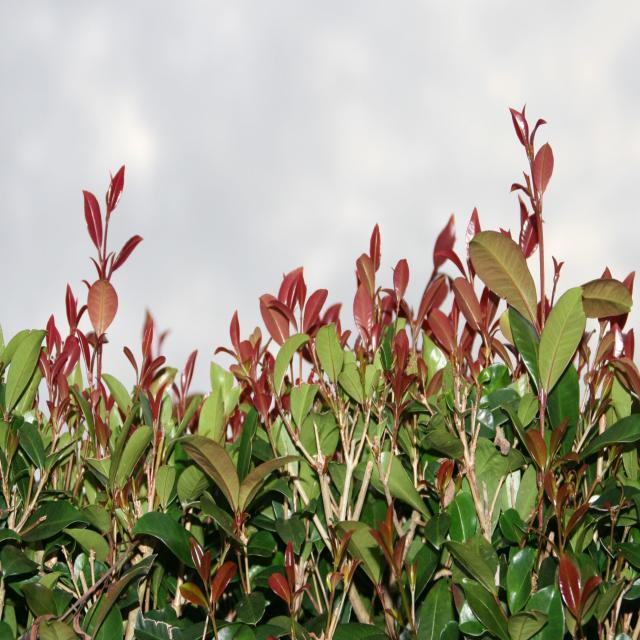Syzygium Resilience: (0, 102, 639, 640)
